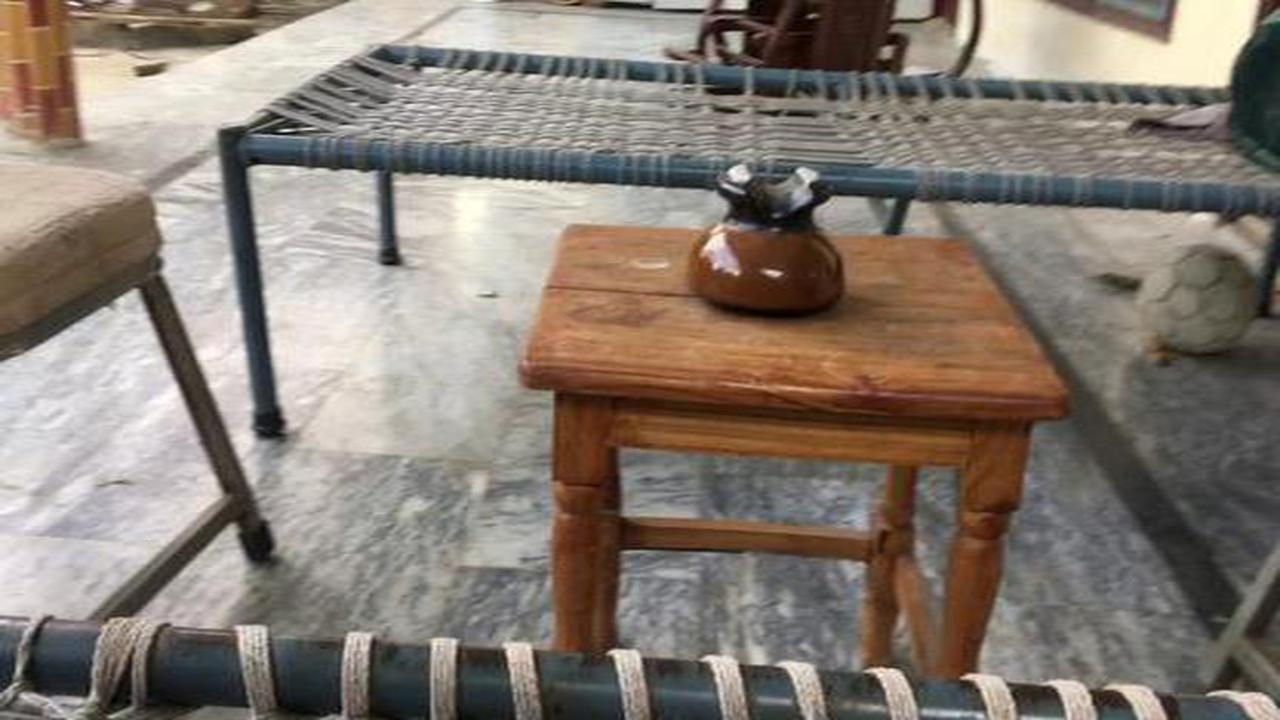insulator_pin: (680, 139, 868, 322)
